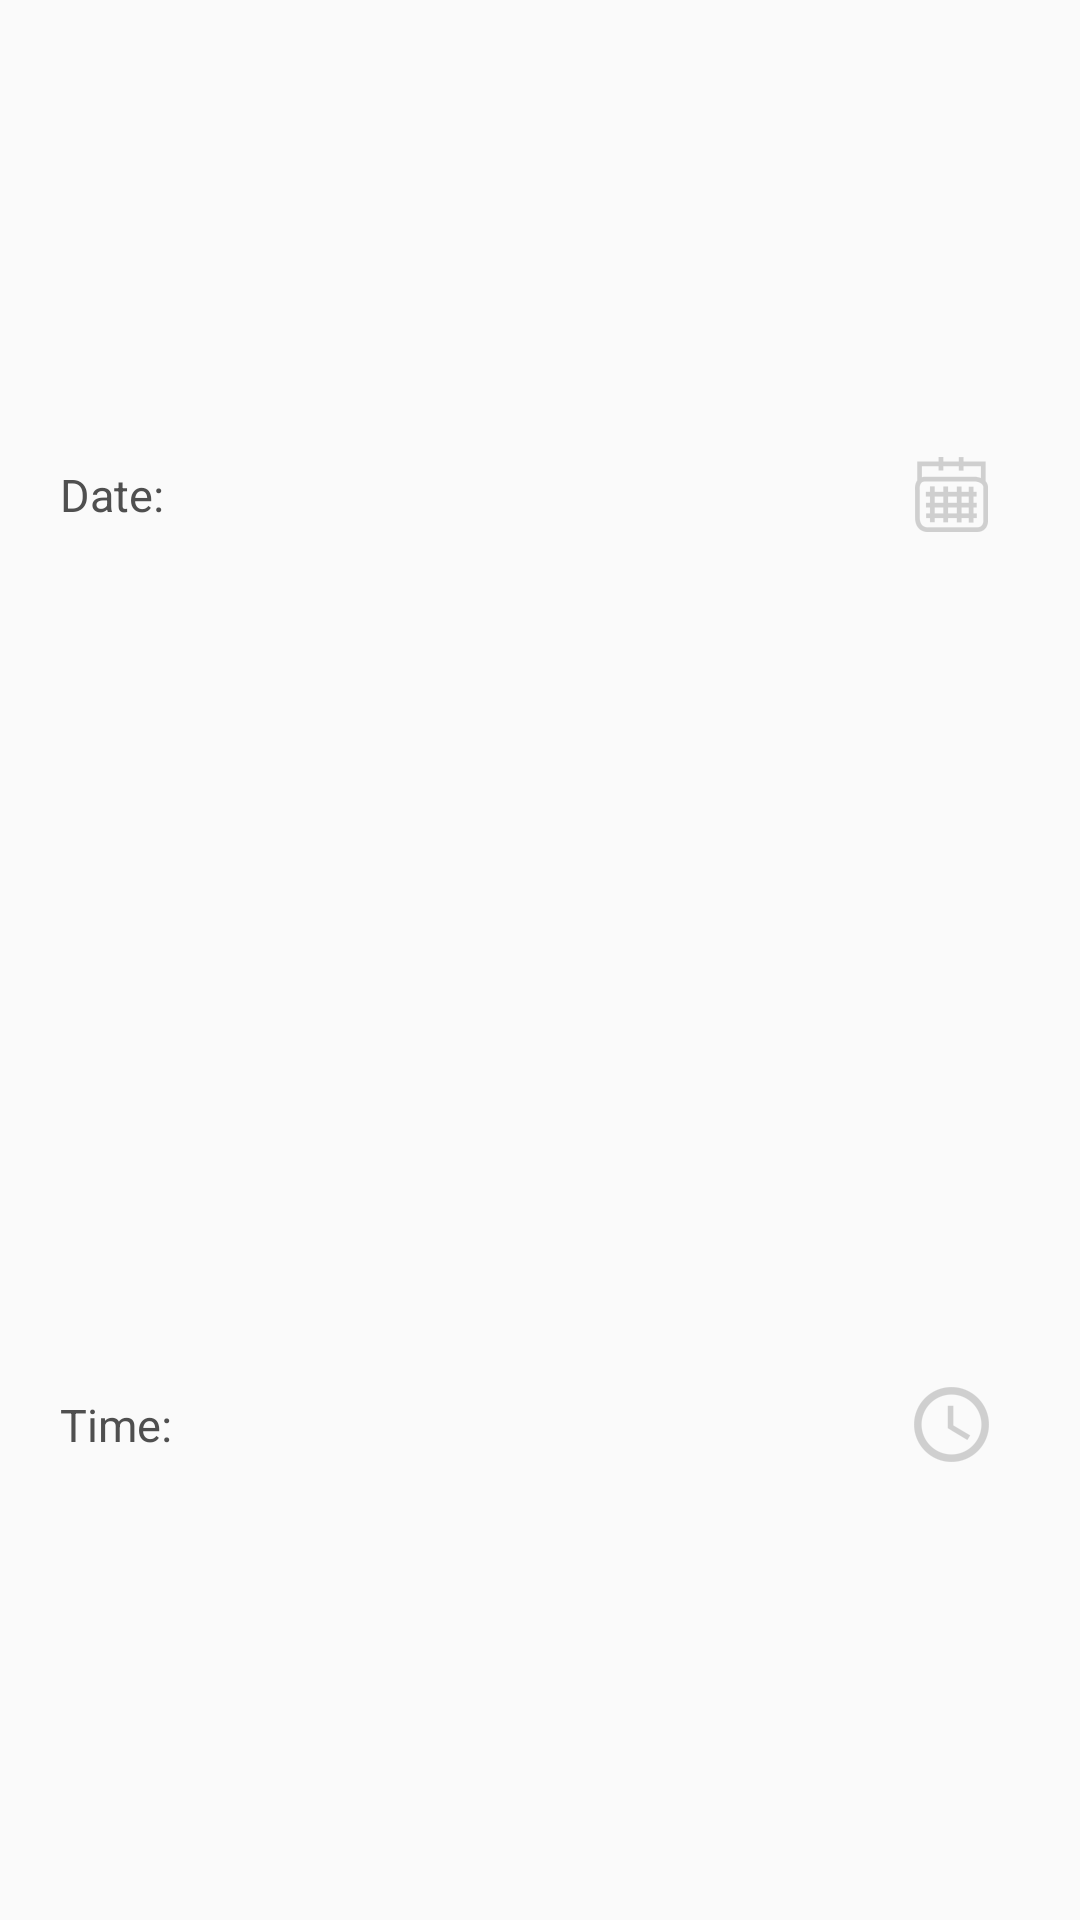

Icons on this 1080x1920 Android screen, each with the point to tap as (x,y):
date picker: (951,494)
time picker: (951,1424)
